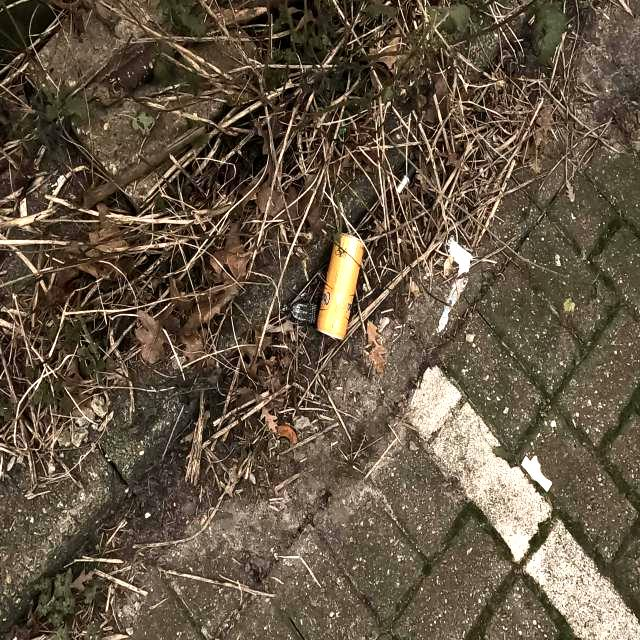Metal: (313, 230, 367, 344)
